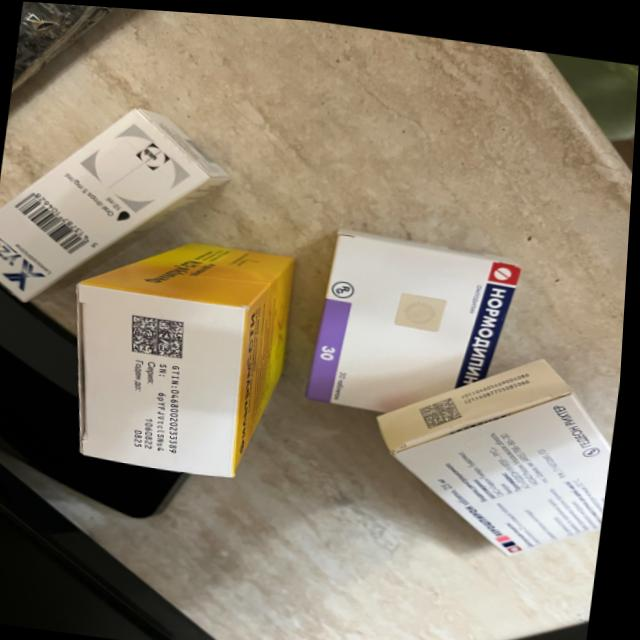datamatrix: (131, 312, 191, 356), (421, 386, 469, 426)
